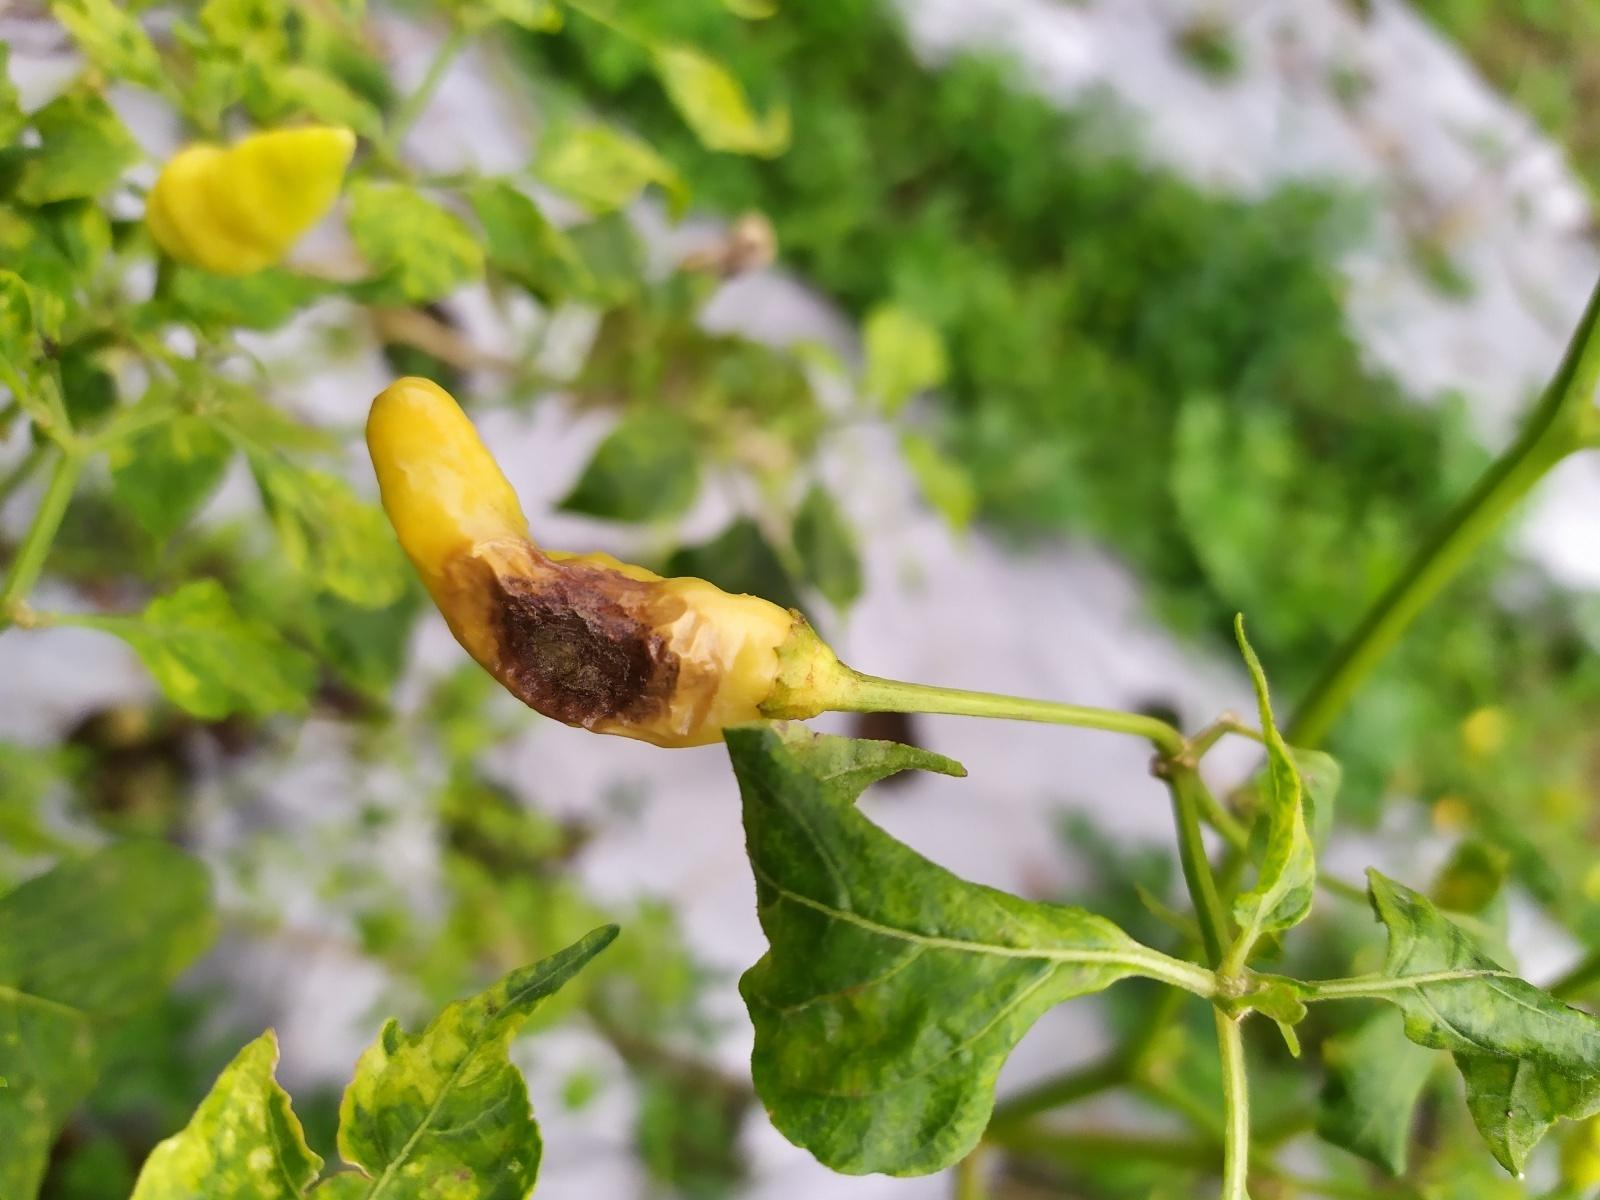antraknosa: (363, 374, 797, 750)
